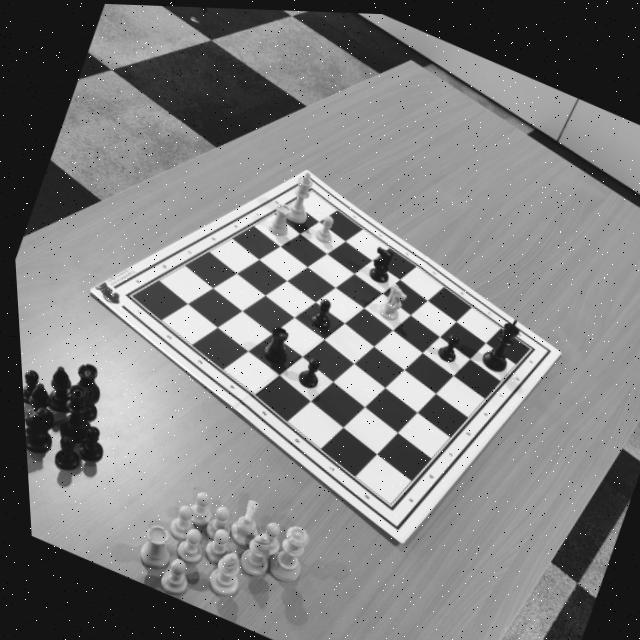chessboard: (125, 187, 528, 505)
